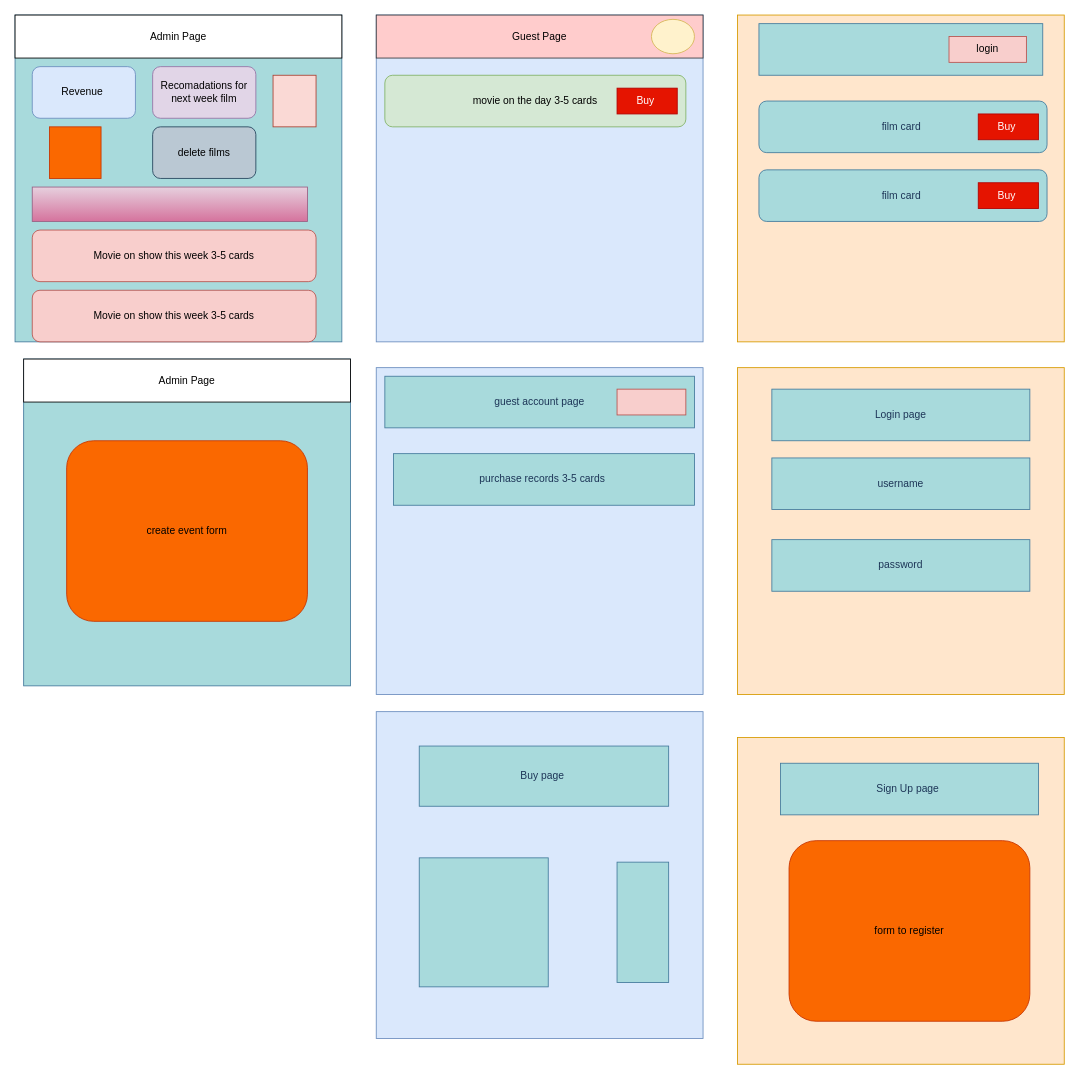
The diagram is 1079 pixels wide and 1079 high, and some of its shapes have lost their labels. Each missing label, with the box of its shape:
account: (651, 18, 694, 54)
add films: (49, 126, 101, 178)
confirm: (616, 861, 669, 983)
Event on the day: (31, 186, 307, 221)
home page: (758, 23, 1043, 75)
log out: (616, 388, 686, 415)
repeat schedule: (272, 74, 316, 127)
transaction: (418, 857, 548, 987)
